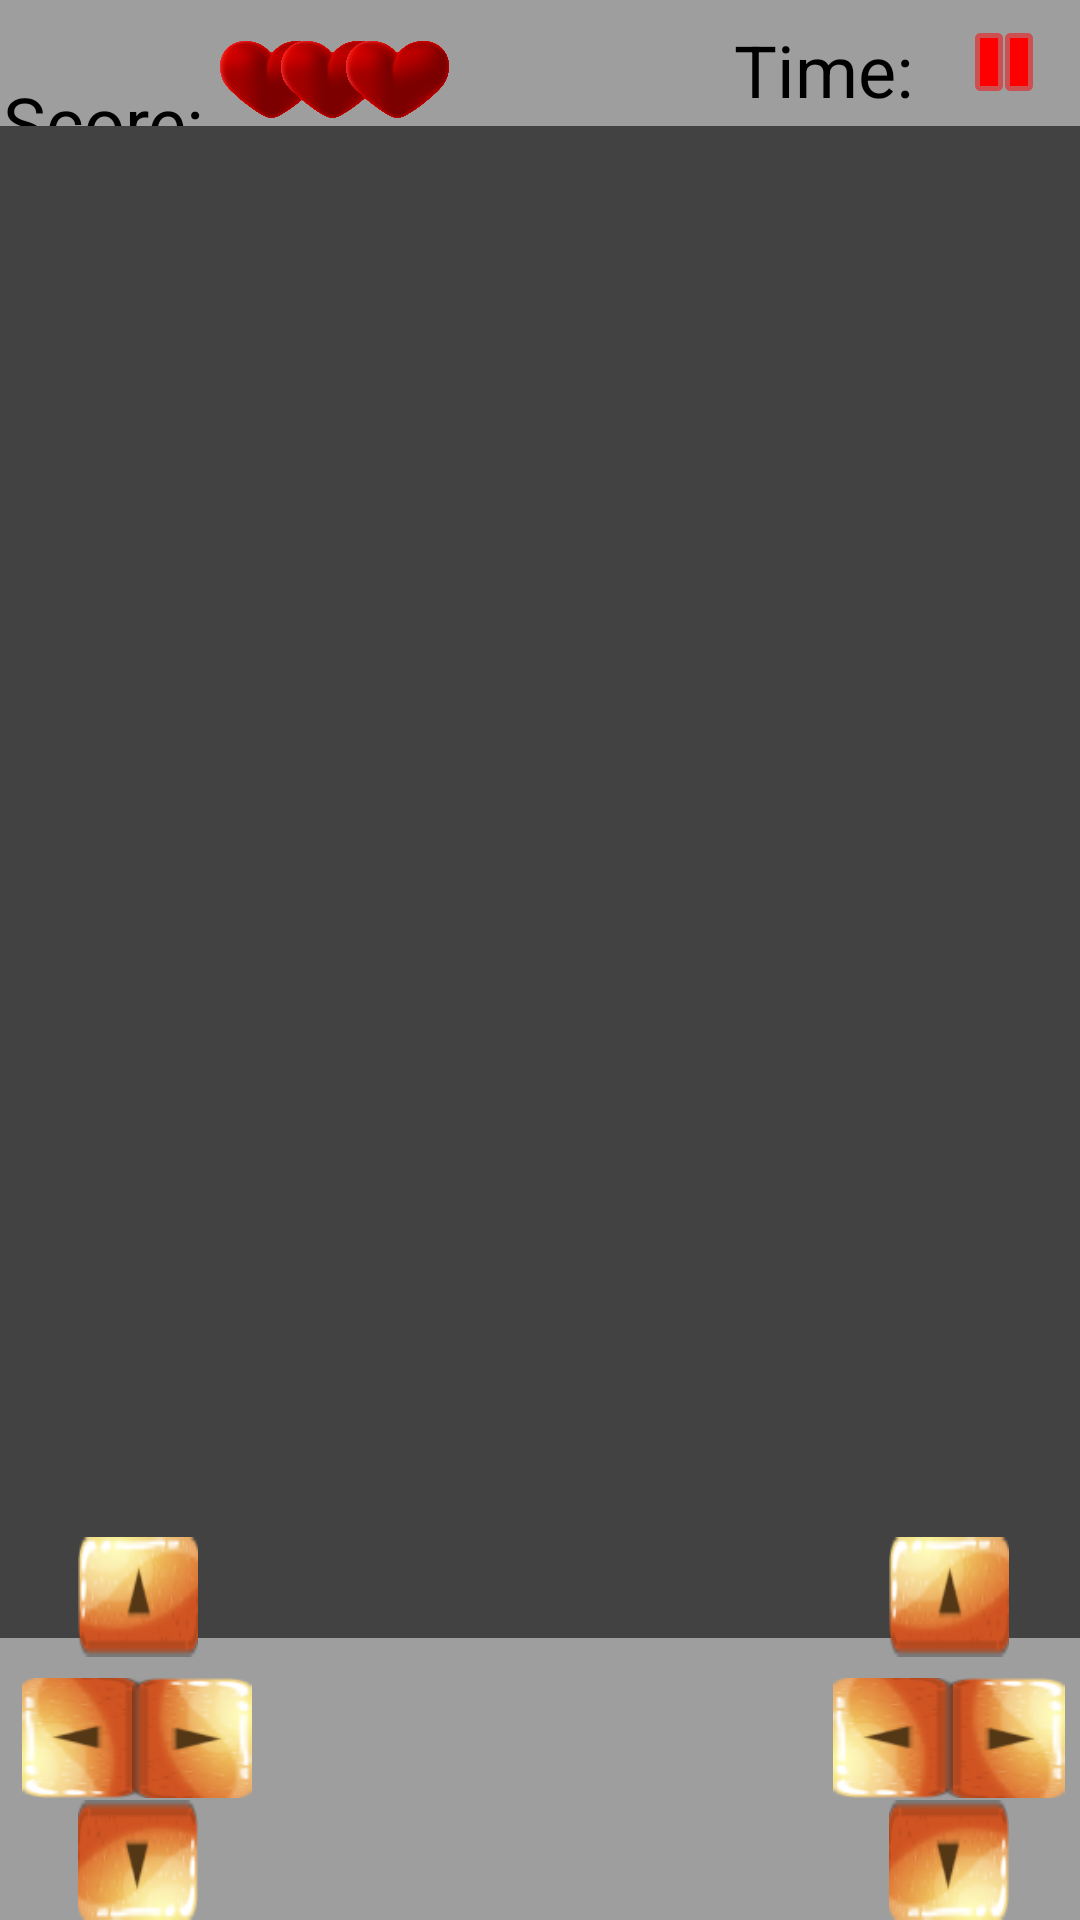

Screen size 1080×1920. Icon name, then its center in pixels as [x,y]:
pause: [1004,62]
